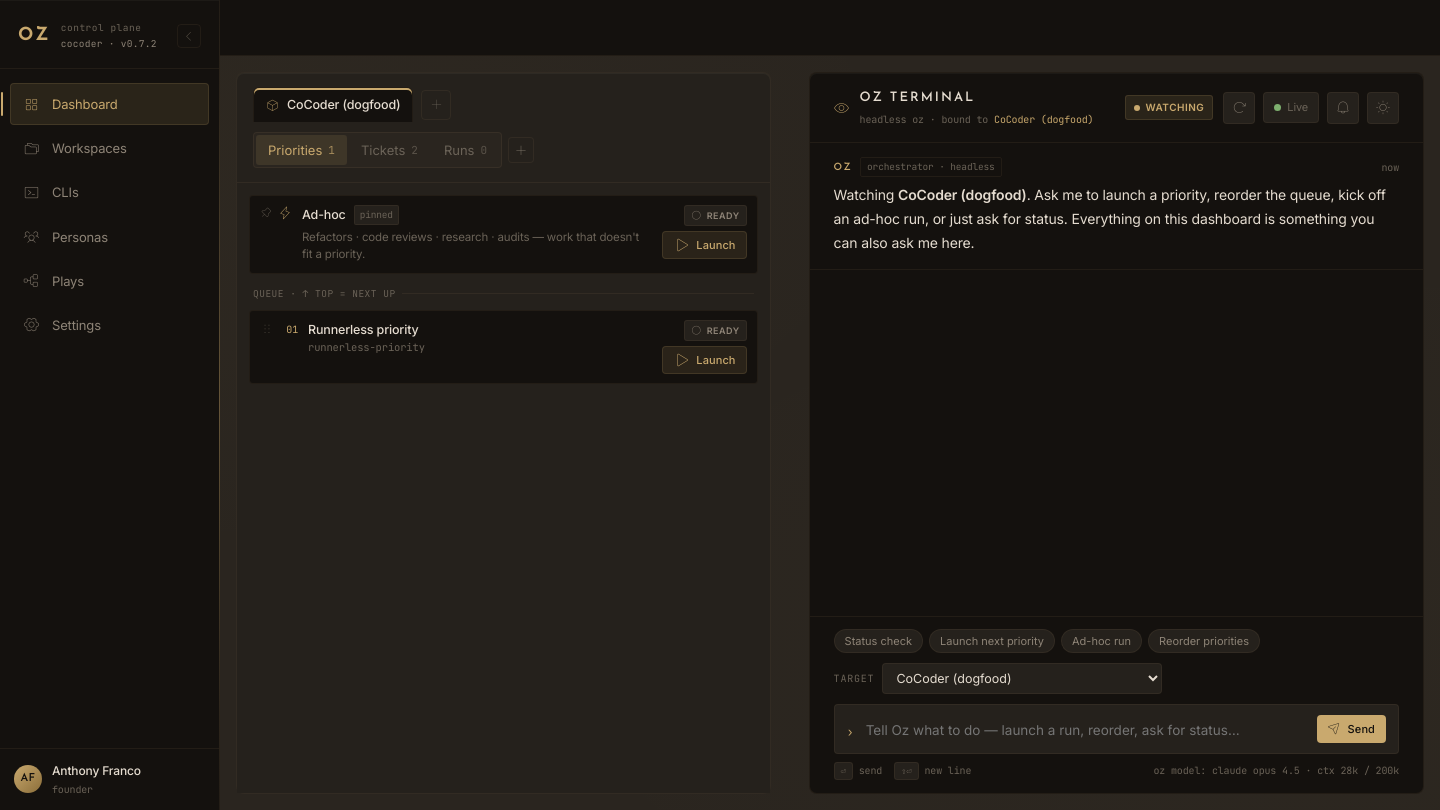
Test: Oz renderer — live daemon path › runnerless launch success does not render the launch error treatment
The width and height of the screenshot is (1440, 810).
Check: the text "Live" is shown, box 1287,98 -> 1308,117
Click the button "Launch" in the row of "runnerless-priority" at (704, 360), box 662,346 -> 747,374
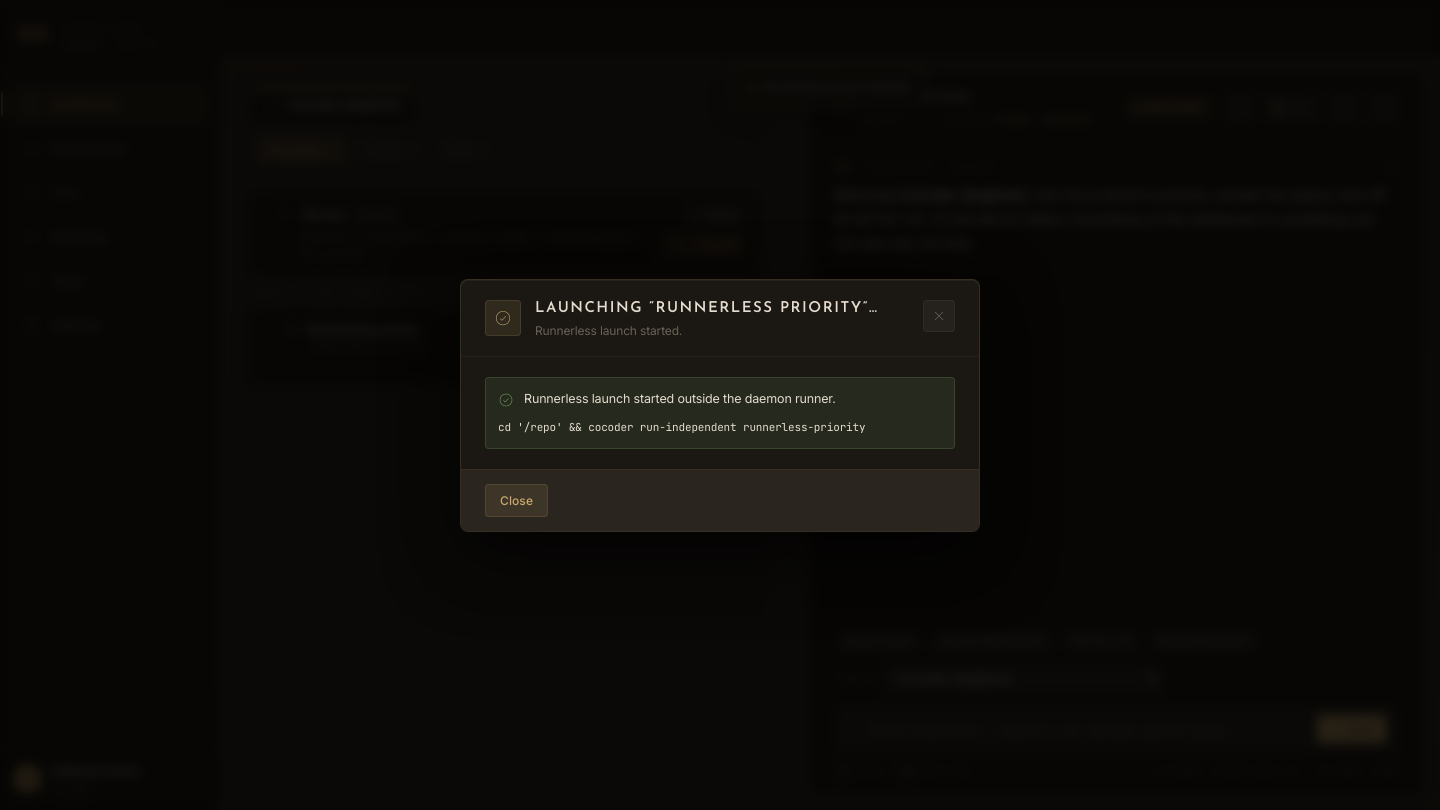
Check: the text "Runnerless launch started outside the daemon runner." is shown, box 524,391 -> 836,406
